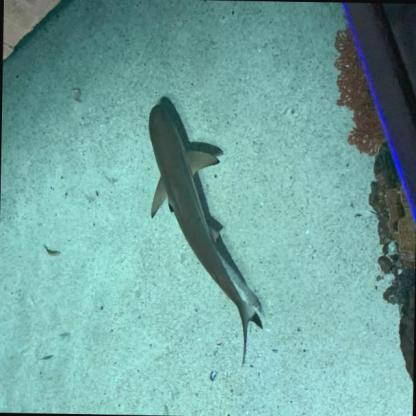shark: (145, 102, 266, 370)
